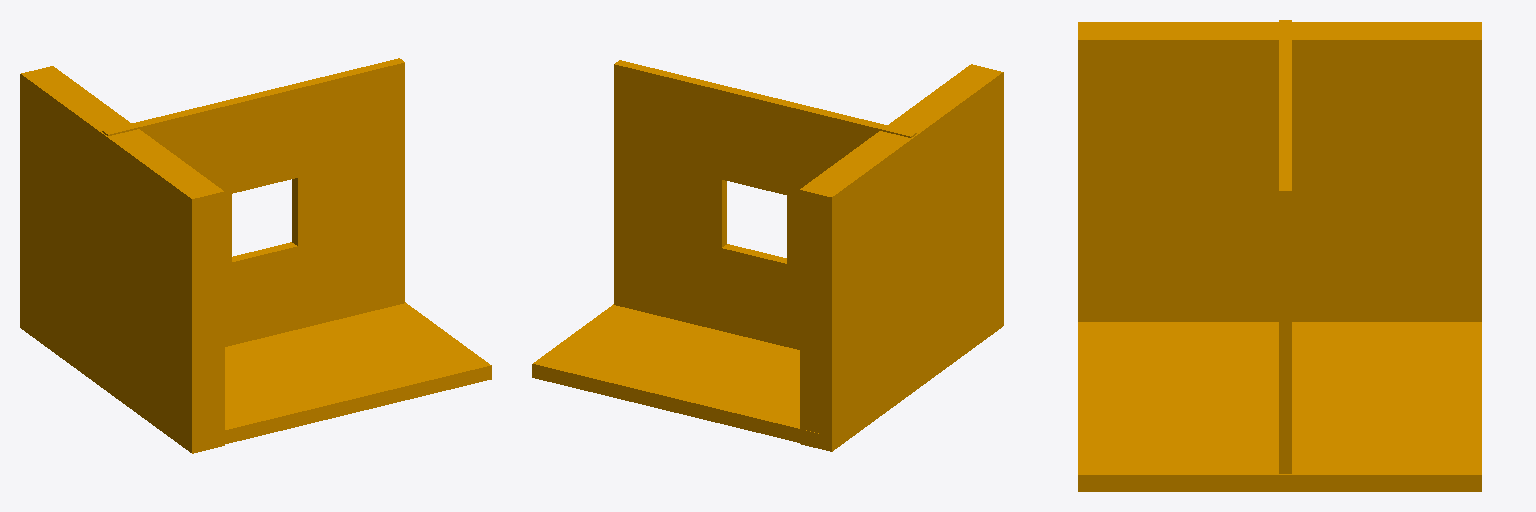
The robot description file, URDF, robot "Twistycool":
<?xml version="1.0" ?>
<robot name="Twistycool">
  <link name="root">
    <visual>
      <origin xyz="-3 -3 -0" rpy="0 0 0" />
      <geometry>
        <mesh filename="Twistycool_env2.dae" scale="0.01 0.01 0.01"/>
      </geometry>
    </visual>
    <collision>
      <origin xyz="-3 -3 -0" rpy="0 0 0" />
      <geometry>
        <mesh filename="Twistycool_env2.dae" scale="0.01 0.01 0.01"/>
      </geometry>
    </collision>
  </link>
</robot>

--- Facts derived from the render (not from the file) ---
The picture shows the robot from 3 angles, left to right: view 1: azimuth 30°, elevation 25°; view 2: azimuth 150°, elevation 25°; view 3: azimuth 270°, elevation 25°; orthographic projection.
Model Twistycool with 1 links and 0 joints (none), rooted at root, posed all joints at 0.
Visible links, largest first — view 1: root; view 2: root; view 3: root.
Boxes of the visible links, bbox=[...] form: root: bbox=[20, 58, 491, 453]; root: bbox=[532, 60, 1003, 451]; root: bbox=[1078, 20, 1481, 491].
Size in the robot's own frame: 4.43 by 4.4 by 3.62 metres.
1 mesh visuals loaded from 1 distinct referenced files (1 Collada DAE).
